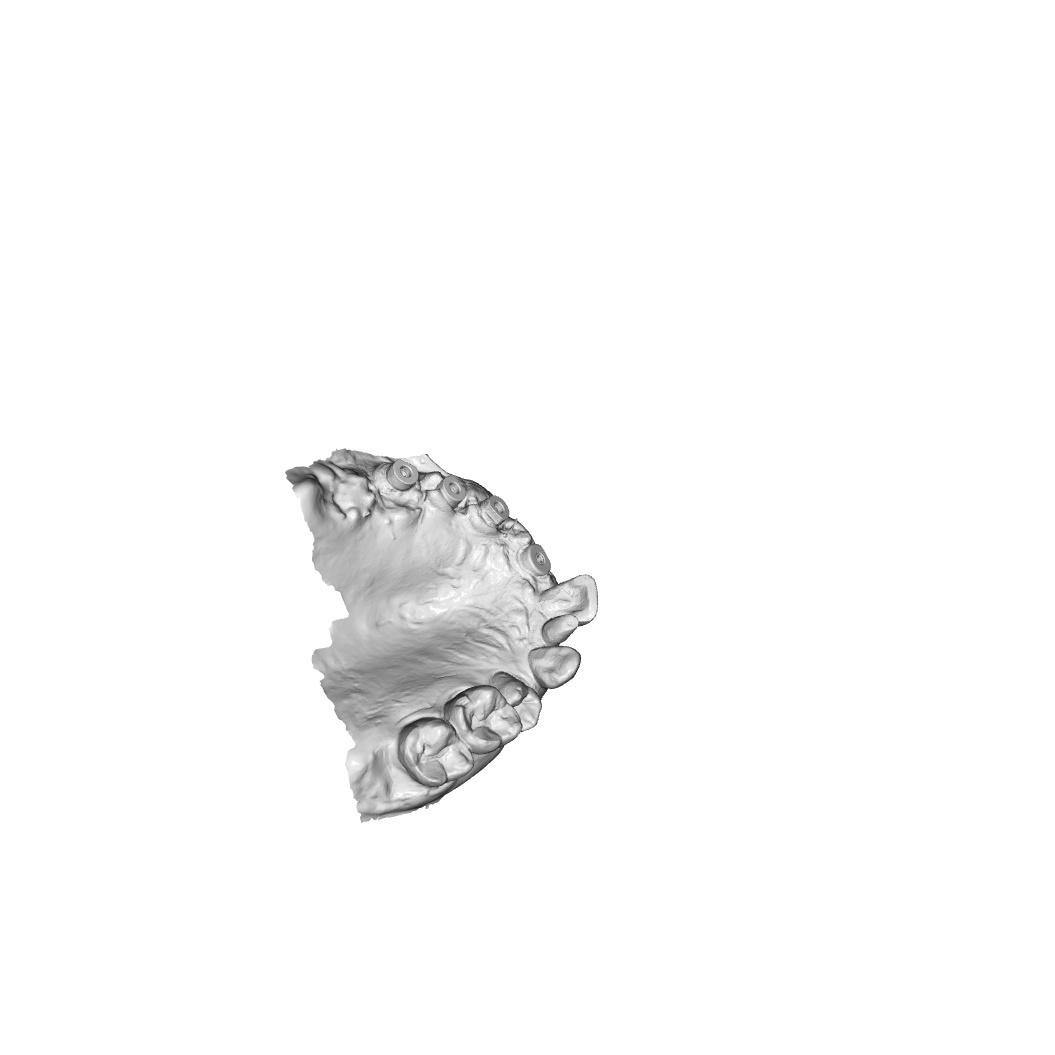canine: (528, 644, 582, 690)
implant: (517, 542, 553, 578), (386, 457, 420, 492), (480, 493, 511, 527), (438, 475, 468, 510)
incisor: (539, 573, 600, 627), (541, 613, 580, 646)
molar: (442, 683, 523, 755), (397, 715, 475, 788)
premolar: (502, 679, 544, 733)
